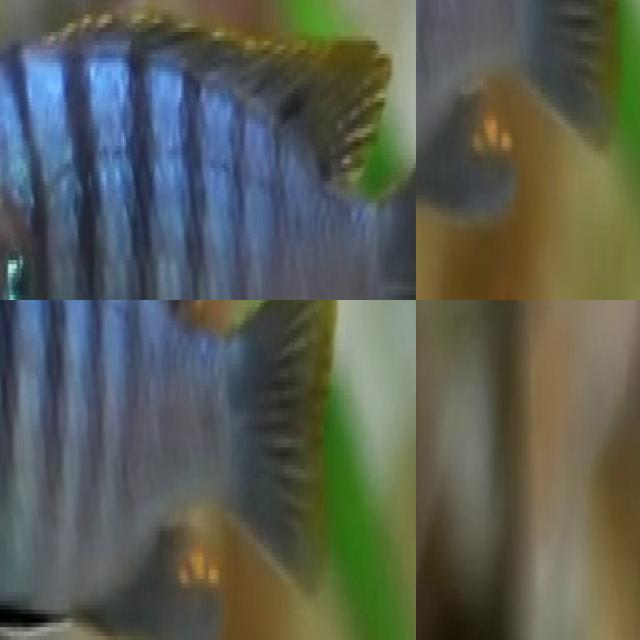fish: (0, 0, 416, 300), (0, 300, 336, 640), (416, 0, 621, 247)
